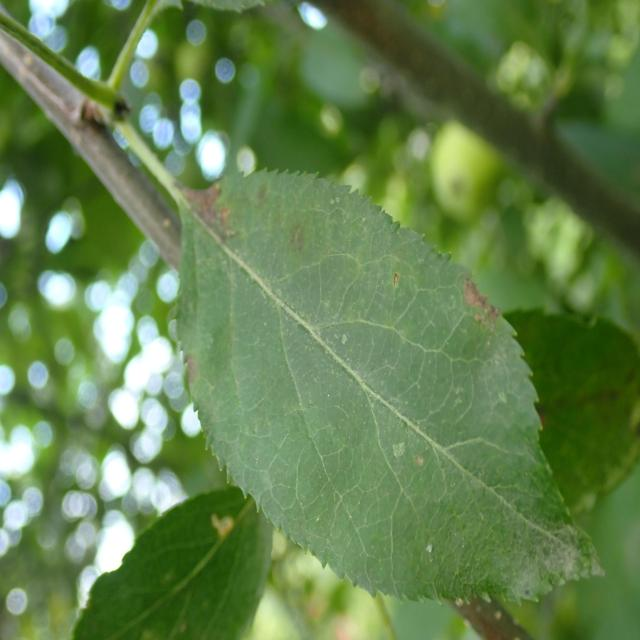scab: (186, 158, 606, 616)
